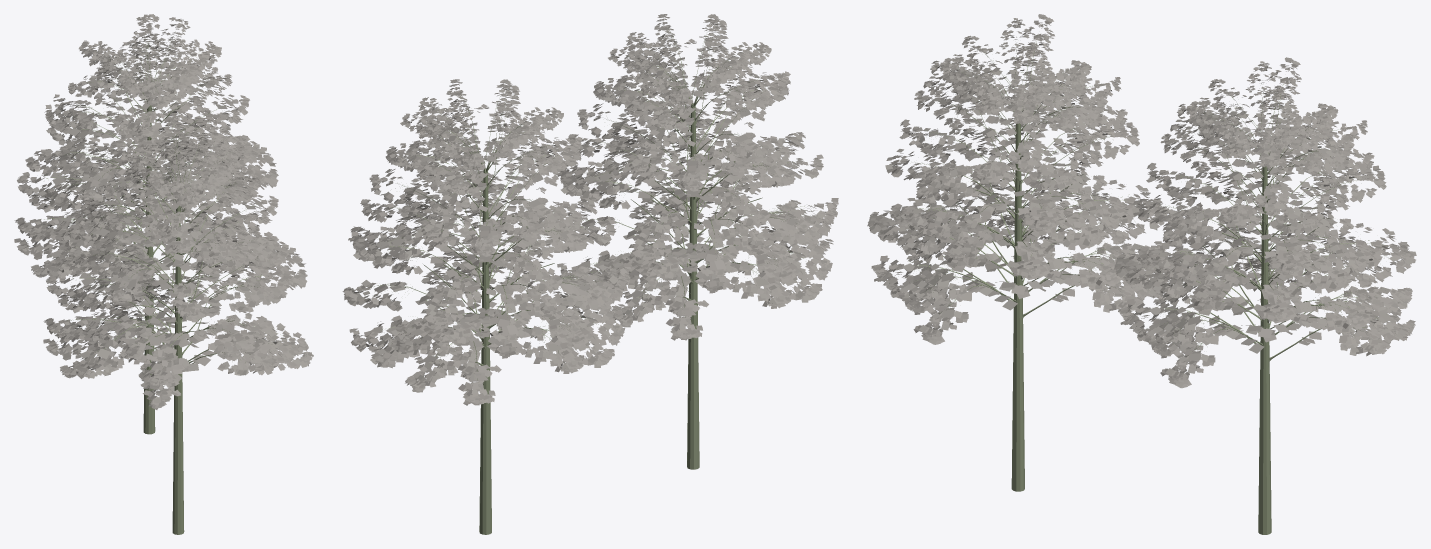
The picture shows the model from 3 angles, left to right: view 1: azimuth 30°, elevation 25°; view 2: azimuth 150°, elevation 25°; view 3: azimuth 270°, elevation 25°; orthographic projection. The views are drawn at different scales.
Visible parts, largest first — view 1: 0aOaINg9T00eS$KPN0_iOn, 0aOaINg9T00eS$KPN0_iO0; view 2: 0aOaINg9T00eS$KPN0_iO0, 0aOaINg9T00eS$KPN0_iOn; view 3: 0aOaINg9T00eS$KPN0_iO0, 0aOaINg9T00eS$KPN0_iOn.
Boxes of the visible parts, x1,y1,x2,y2 form: 0aOaINg9T00eS$KPN0_iOn: [43, 114, 313, 534]; 0aOaINg9T00eS$KPN0_iO0: [14, 14, 279, 434]; 0aOaINg9T00eS$KPN0_iO0: [342, 79, 631, 534]; 0aOaINg9T00eS$KPN0_iOn: [554, 14, 838, 469]; 0aOaINg9T00eS$KPN0_iO0: [1114, 57, 1416, 534]; 0aOaINg9T00eS$KPN0_iOn: [867, 14, 1169, 491].
Size of the model in its own units: 7.45 by 9.04 by 10.06.
